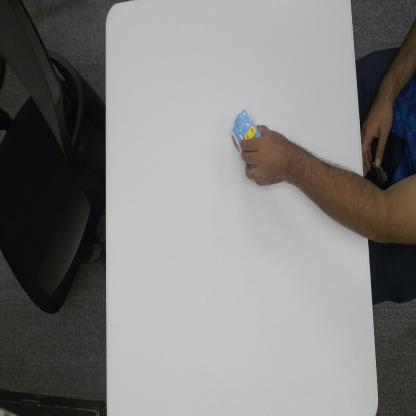Arm: (288, 142, 367, 238)
Car: (229, 109, 262, 153)
Hand: (240, 122, 286, 188)
